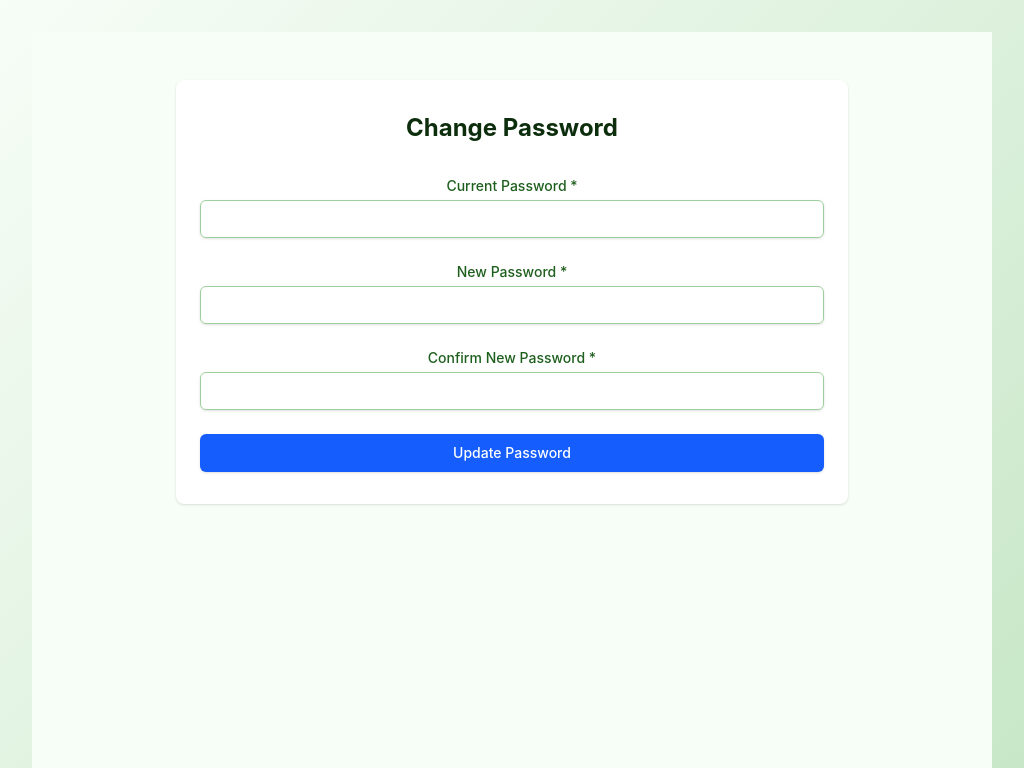
Test: ChangePasswordPage › Form Submission › should handle password change errors
expect the heading "Change Password" is shown: met, box [406,113,618,142]
Type "WrongPassword" into the password field labelled "Current Password *" at coordinates (512, 219), box [200,200,824,238]
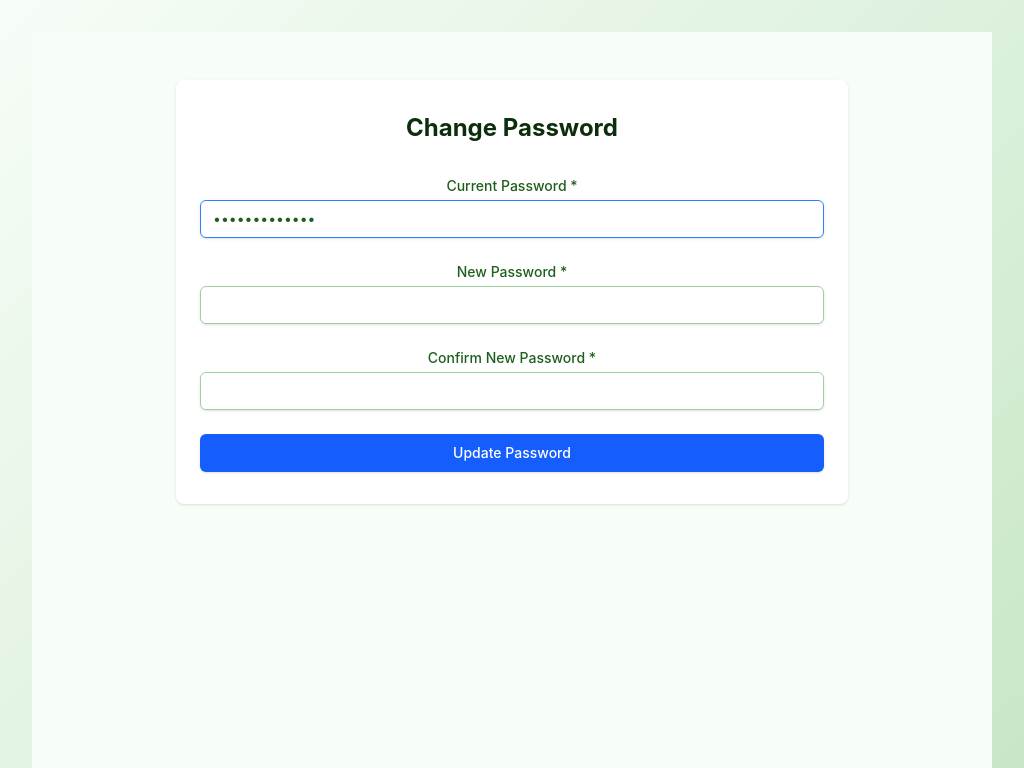
Type "NewPassword456!" into the password field labelled "New Password *" at coordinates (512, 305), box [200,286,824,324]
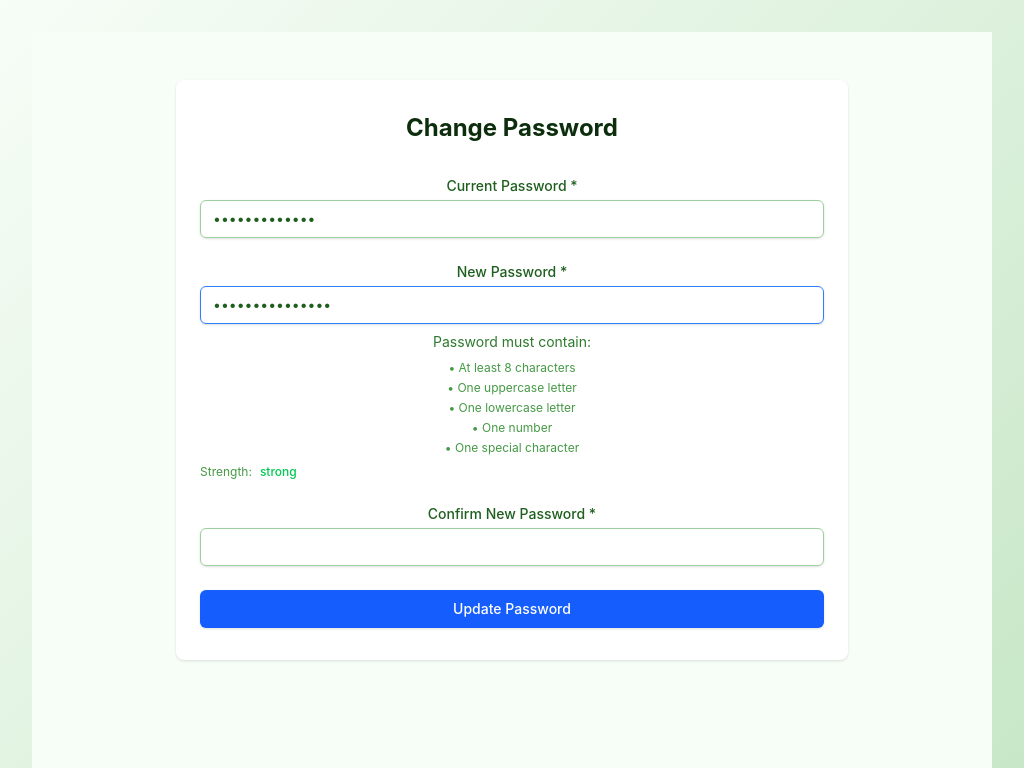
Type "NewPassword456!" into the password field labelled "Confirm New Password *" at coordinates (512, 547), box [200,528,824,566]
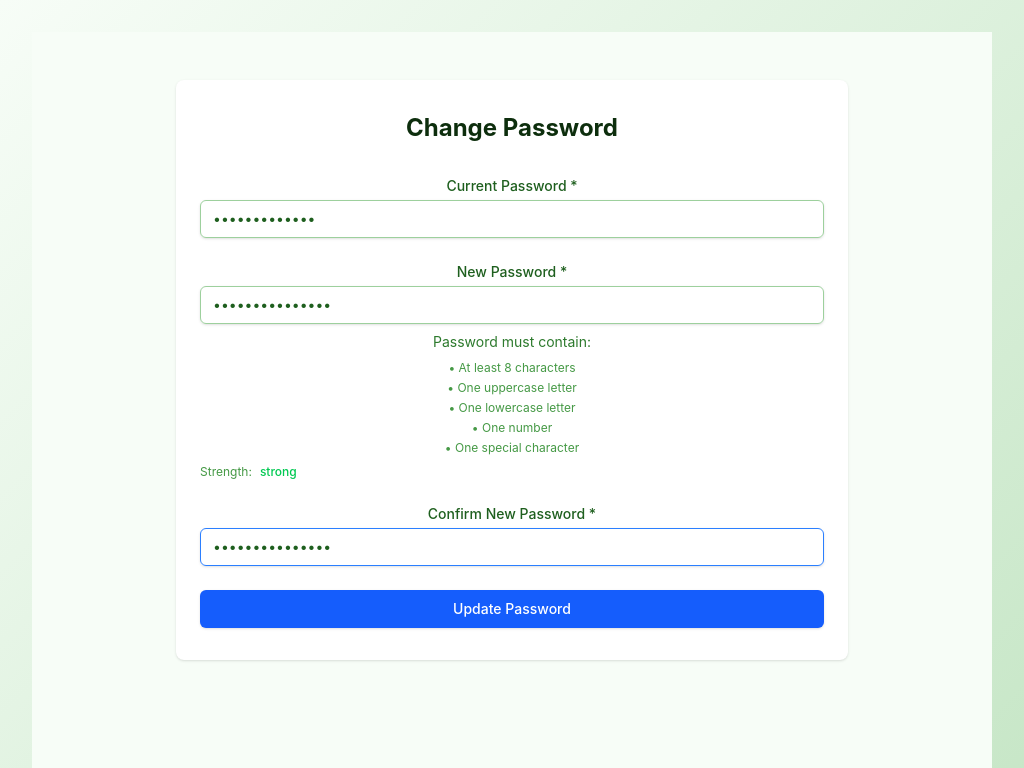
Click the button "Update Password" at coordinates (512, 609), box [200,590,824,628]
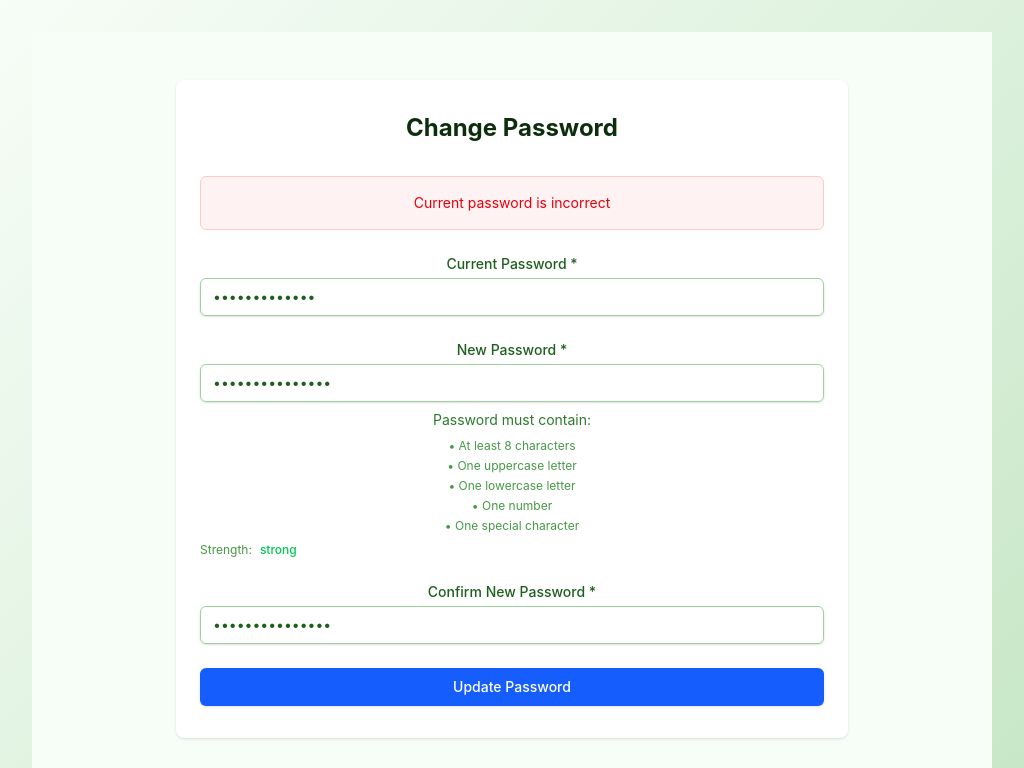
expect the text "Current password is incorrect" is shown: met, box [414,194,610,211]
